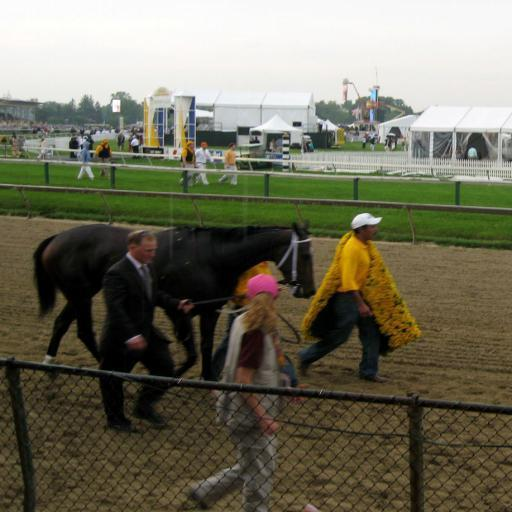horse: (36, 216, 320, 380)
